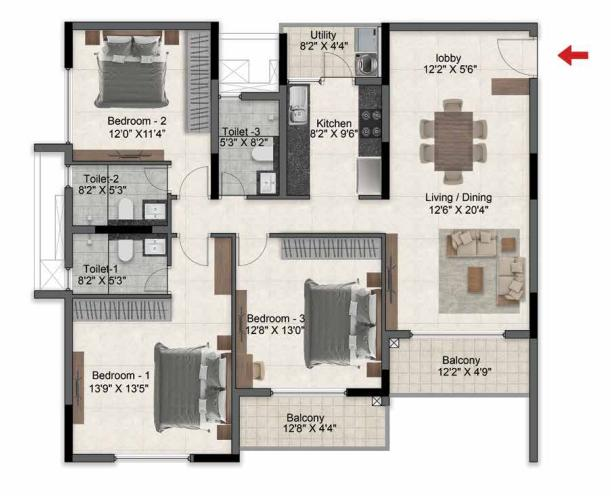Balcony: (384, 331, 535, 397), (237, 398, 385, 448)
Bed: (309, 284, 382, 371), (154, 349, 233, 429), (95, 27, 167, 104)
Bedroom: (72, 297, 236, 456), (234, 235, 384, 394), (68, 26, 215, 162)
Dining Room: (388, 87, 531, 221)
Dining table: (415, 96, 491, 186)
Kitchen: (281, 79, 386, 194)
Living Room: (390, 221, 526, 328)
Sofa: (445, 227, 502, 260), (495, 254, 526, 302)
Wardrobe: (276, 236, 383, 261), (74, 297, 169, 321), (188, 28, 209, 136)
commode: (118, 241, 134, 262), (119, 199, 134, 221), (252, 146, 273, 161)
door: (498, 39, 538, 78), (179, 167, 209, 198), (179, 236, 208, 267), (237, 236, 268, 265), (324, 52, 353, 79), (143, 267, 168, 293), (145, 168, 169, 191), (222, 173, 246, 196)
fridge: (357, 159, 382, 194)
kitchen-slab: (357, 85, 383, 157), (286, 128, 310, 193)
lobby: (387, 28, 540, 86)
sink: (288, 86, 308, 126), (257, 173, 277, 195), (143, 202, 171, 217), (144, 239, 167, 254)
stove: (358, 110, 381, 137)
toilet: (66, 161, 170, 231), (217, 97, 286, 199), (66, 230, 167, 293)
tv: (385, 235, 408, 331), (234, 288, 254, 388), (71, 149, 165, 163), (71, 350, 86, 422)
utility: (286, 24, 386, 80)
washing-machine: (355, 27, 379, 53)
